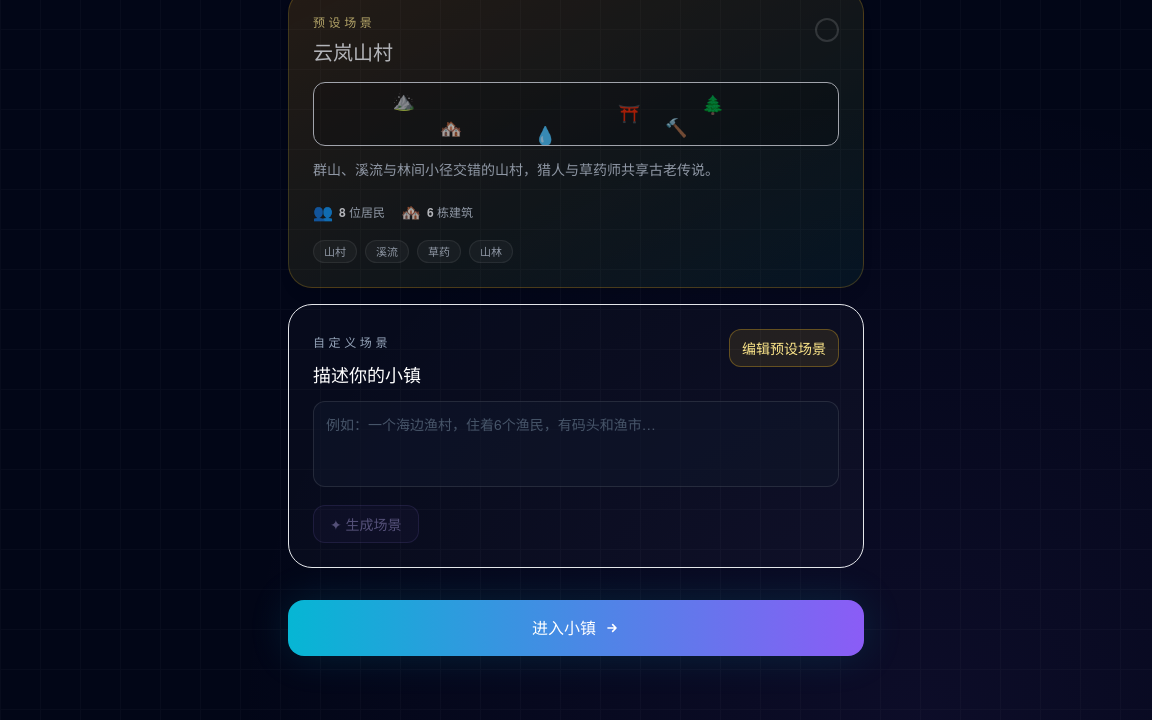
Test case: ScenePicker › shows scenario name and residents in preview after generation
(page scrolled)
Type "测试" into the text box with placeholder "例如：一个海边渔村，住着6个渔民，有码头和渔市…" at x=576, y=444, box [313,401,839,487]
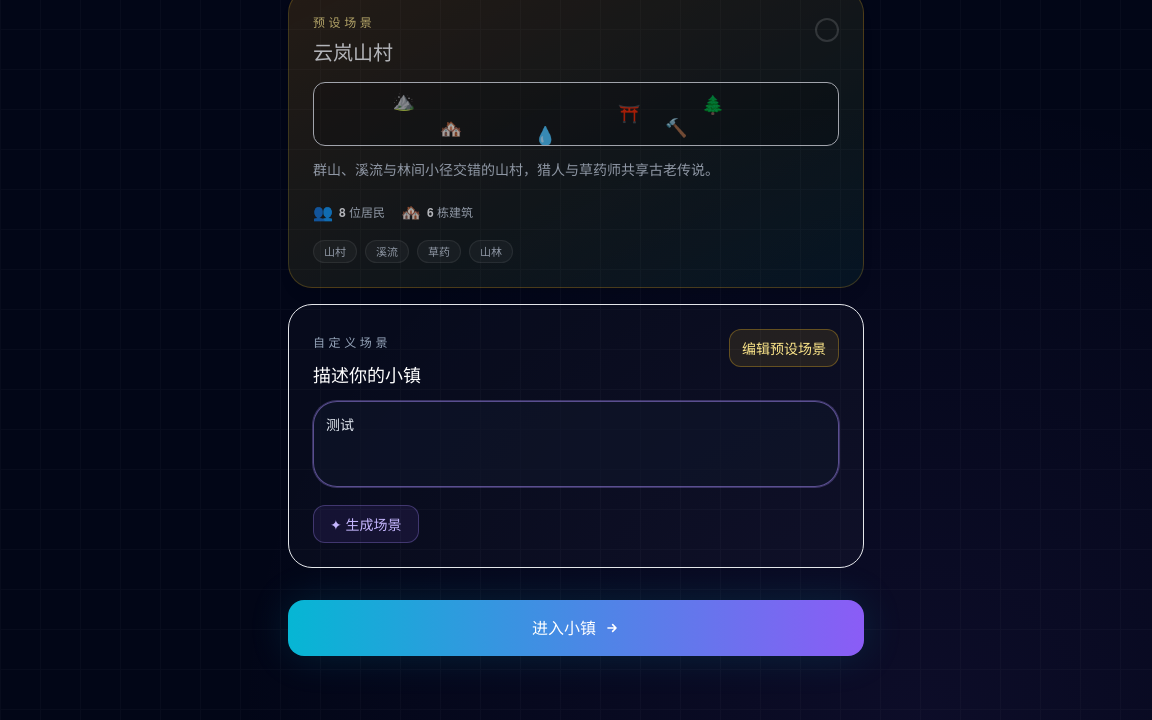
Click the button "✦ 生成场景" at x=366, y=524, box [313,505,419,543]
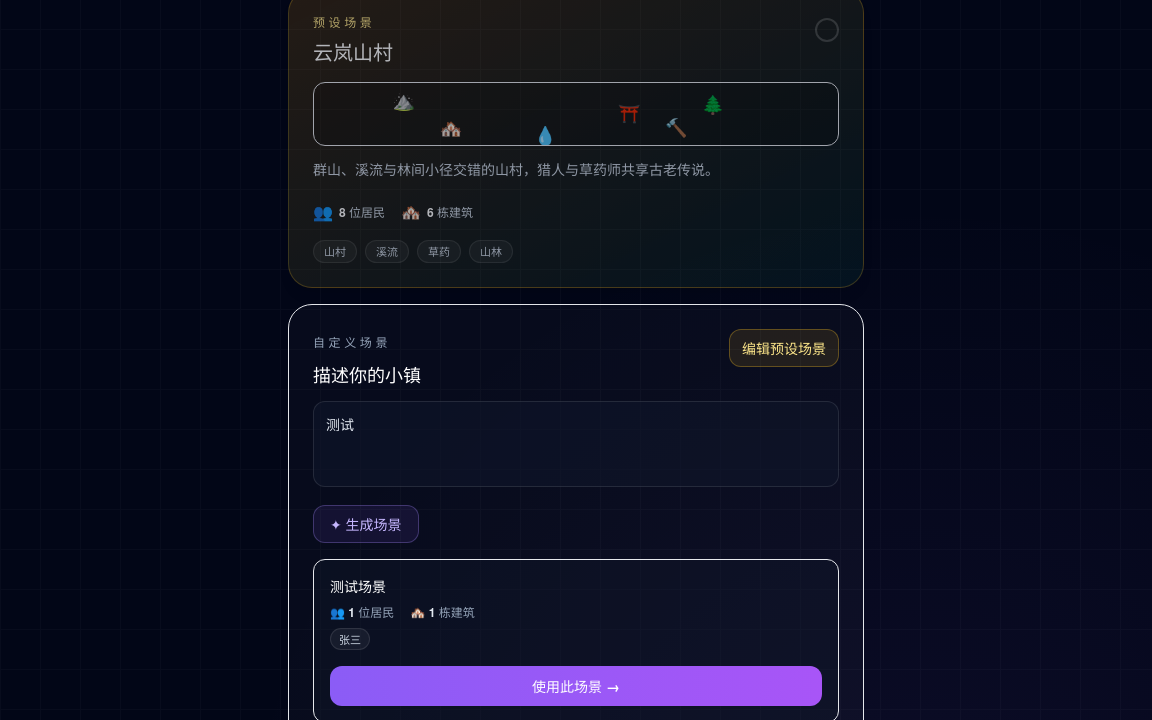
Expected: the text "测试场景" is shown, [330,576,386,596]
Expected: the text "张三" is shown, [330,628,370,650]
